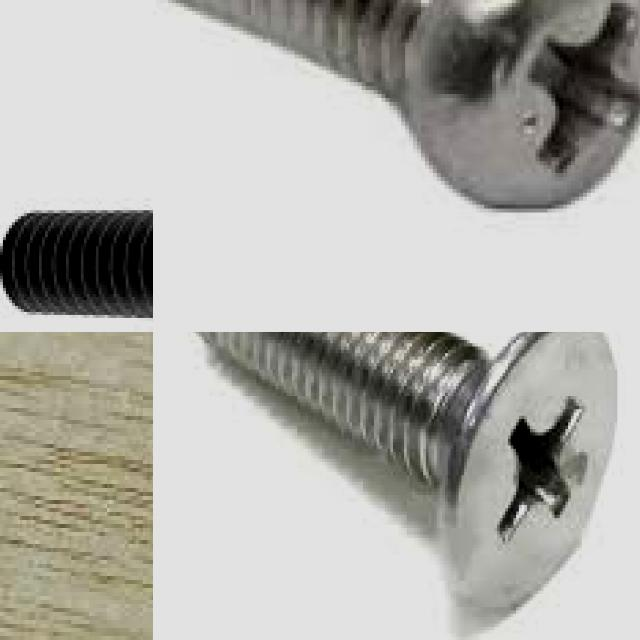Screw: (195, 332, 620, 604), (166, 0, 640, 213), (0, 209, 153, 323)
